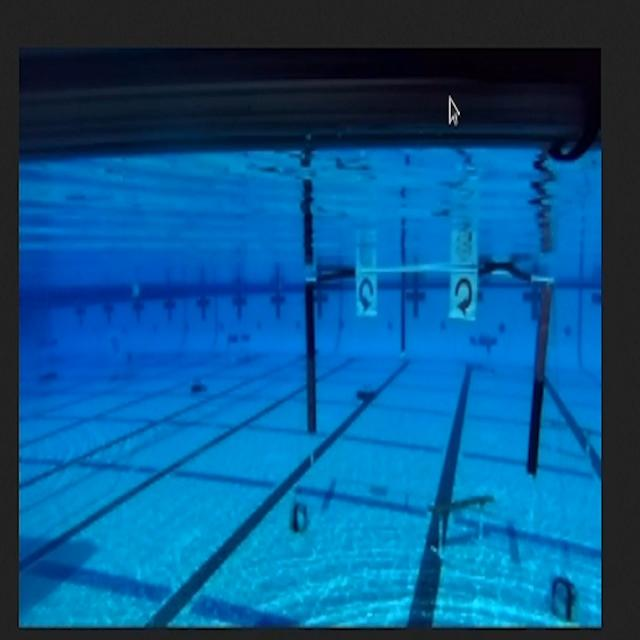Gate: (300, 268, 554, 482)
